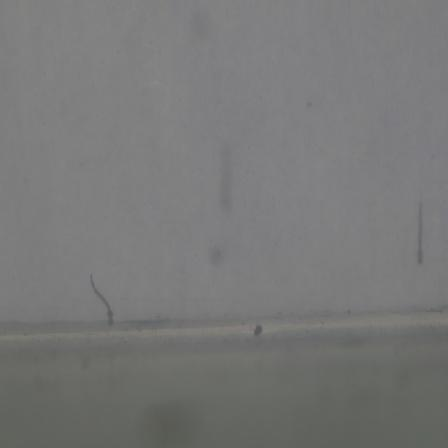Jentik-Nyamuk: (84, 268, 117, 329)
